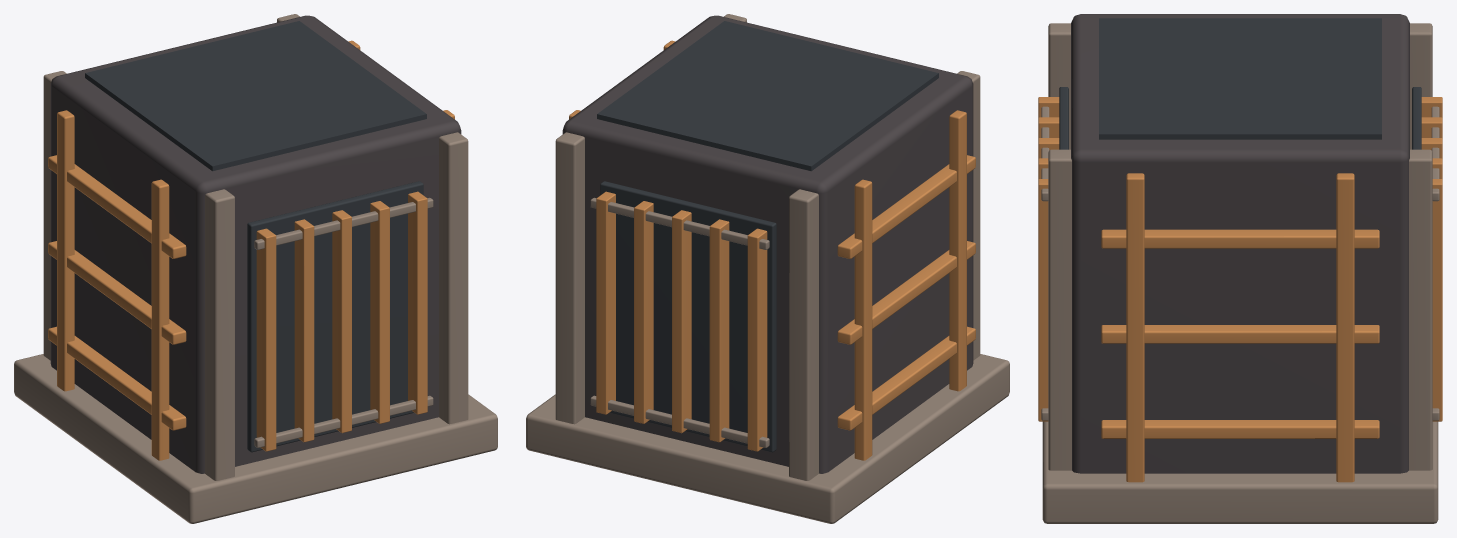
Rendered from uplink-base-0.glb.
3 views of the same model, side by side, from view 1: azimuth 30°, elevation 25°; view 2: azimuth 150°, elevation 25°; view 3: azimuth 270°, elevation 25° (orthographic). The views are drawn at different scales.
Parts seen in each view (by area): view 1: uplink_0, uplink_2, uplink_1, uplink_3; view 2: uplink_0, uplink_2, uplink_1, uplink_3; view 3: uplink_0, uplink_1, uplink_2, uplink_3.
Boxes of the visible parts, box(x1,y1,x2,y2) form: uplink_0: box(50, 15, 461, 473); uplink_2: box(85, 21, 426, 452); uplink_1: box(14, 14, 497, 523); uplink_3: box(48, 40, 454, 460); uplink_0: box(562, 15, 973, 473); uplink_2: box(597, 21, 938, 452); uplink_1: box(526, 14, 1009, 523); uplink_3: box(569, 40, 975, 460); uplink_0: box(1071, 14, 1409, 473); uplink_1: box(1041, 23, 1439, 523); uplink_2: box(1059, 18, 1421, 149); uplink_3: box(1038, 97, 1442, 482).
Bounding box in the file's own units: 0.98 × 1 × 1.
